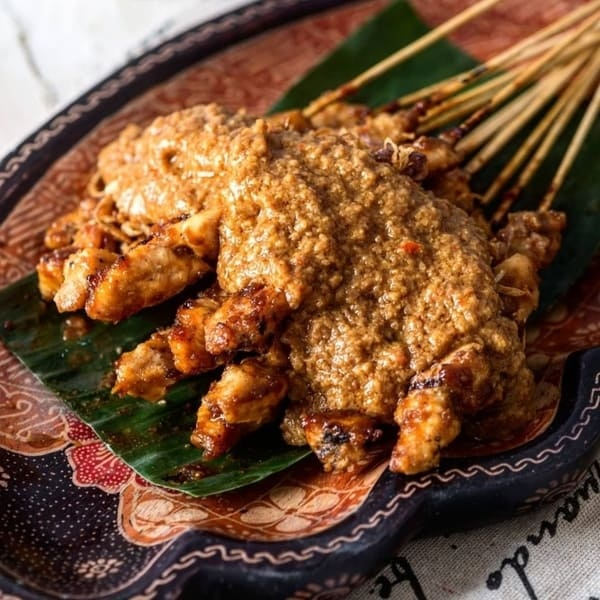sate_madura: (39, 5, 600, 474)
